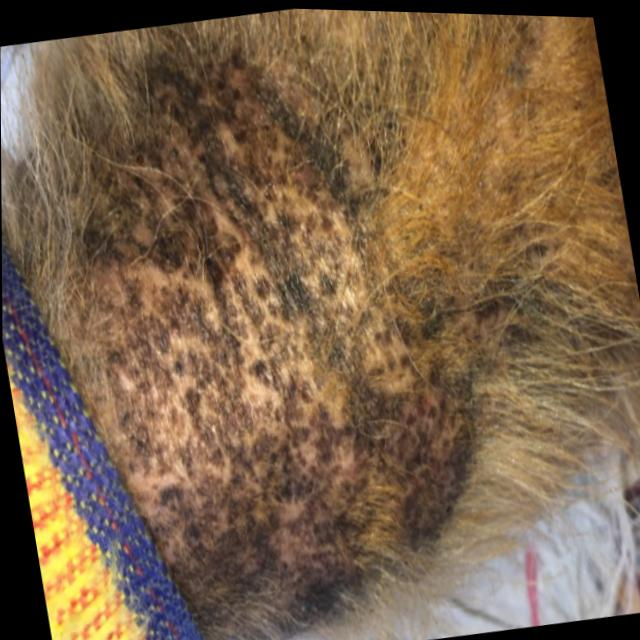demodicosis: (66, 8, 473, 640)
